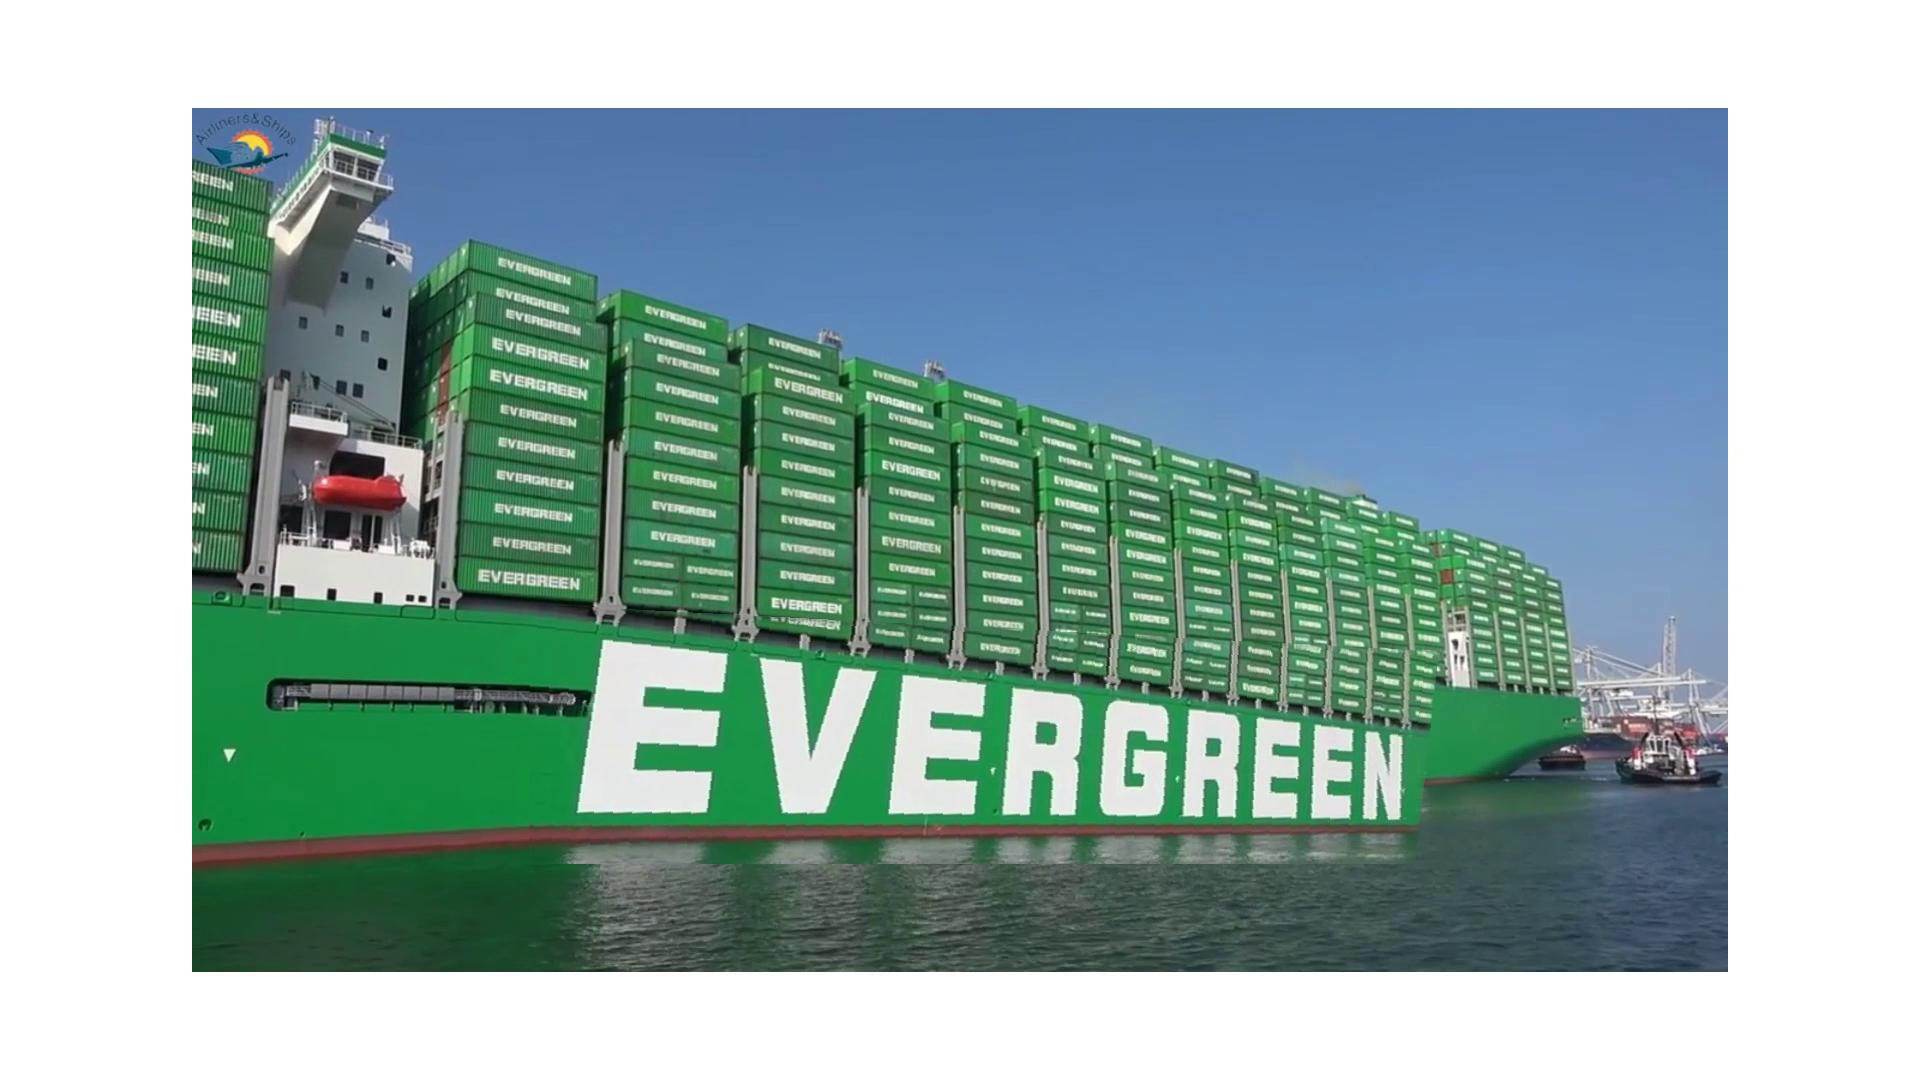OCR: (530, 604, 1440, 864)
